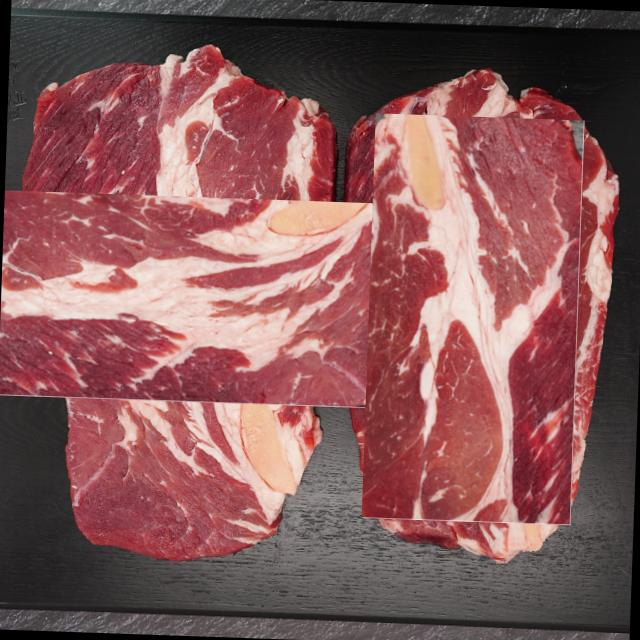beef: (9, 131, 344, 466), (361, 113, 584, 525)
